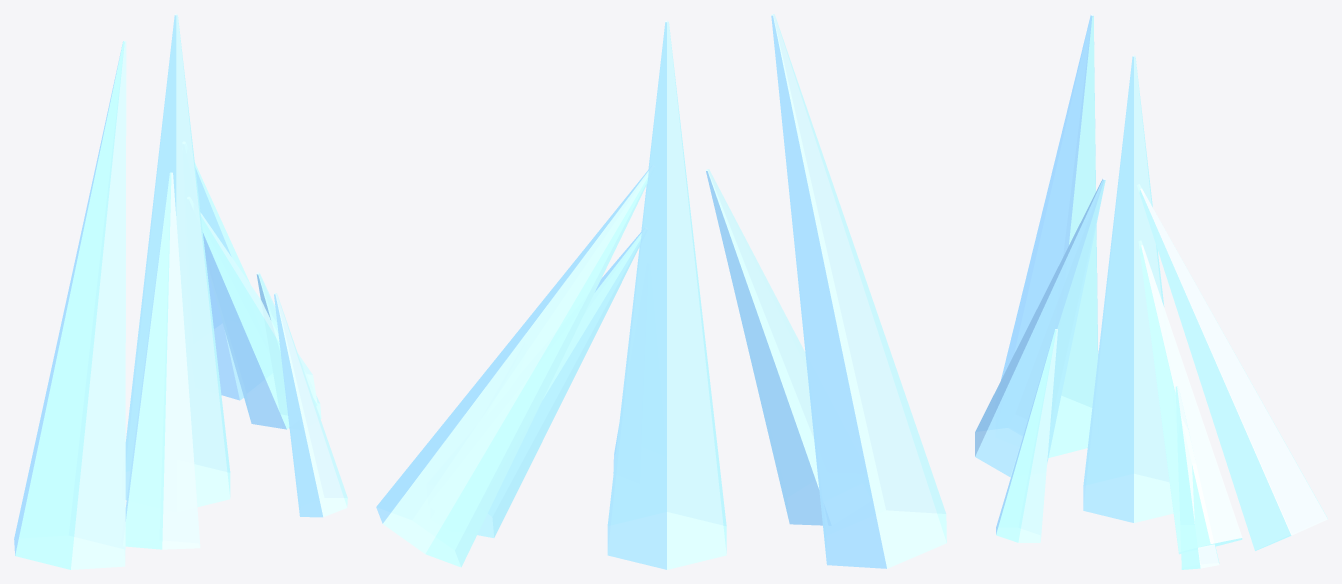
The model's file is ice_crystals.glb.
3 views of the same model, side by side, from view 1: azimuth 30°, elevation 25°; view 2: azimuth 150°, elevation 25°; view 3: azimuth 270°, elevation 25° (orthographic). The views are drawn at different scales.
Parts seen in each view (by area): view 1: ice_crystals_m; view 2: ice_crystals_m; view 3: ice_crystals_m.
Boxes of the visible parts, x1,y1,x2,y2 form: ice_crystals_m: [14, 14, 347, 569]; ice_crystals_m: [376, 14, 946, 569]; ice_crystals_m: [975, 14, 1327, 569].
Bounding box in the file's own units: 2.48 × 2.96 × 2.08.
